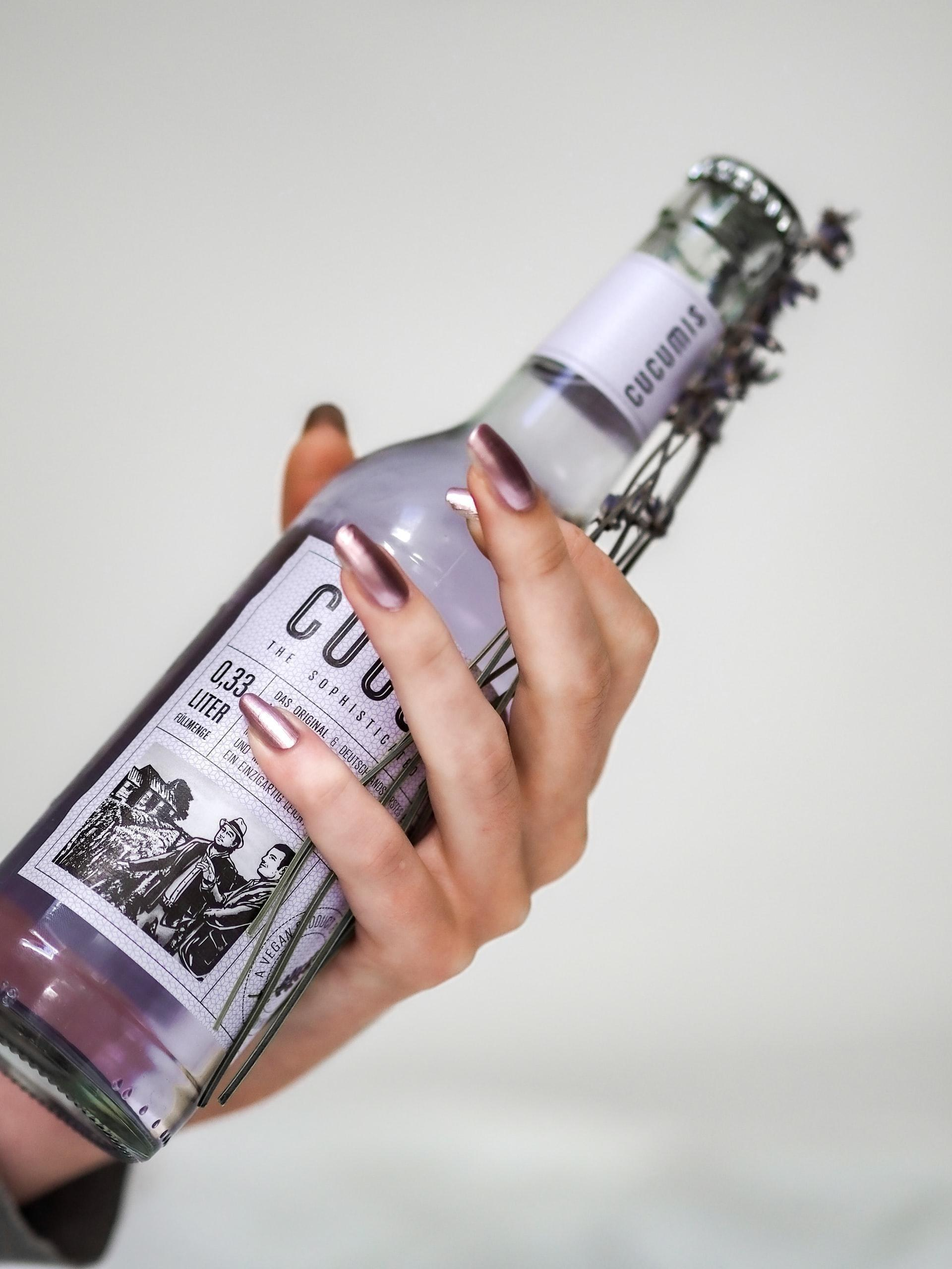bottle-glass: (0, 143, 816, 1174)
